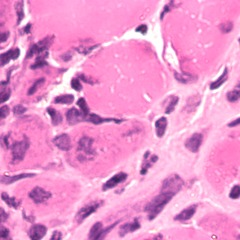New: (1, 112, 56, 175), (11, 176, 79, 217)
